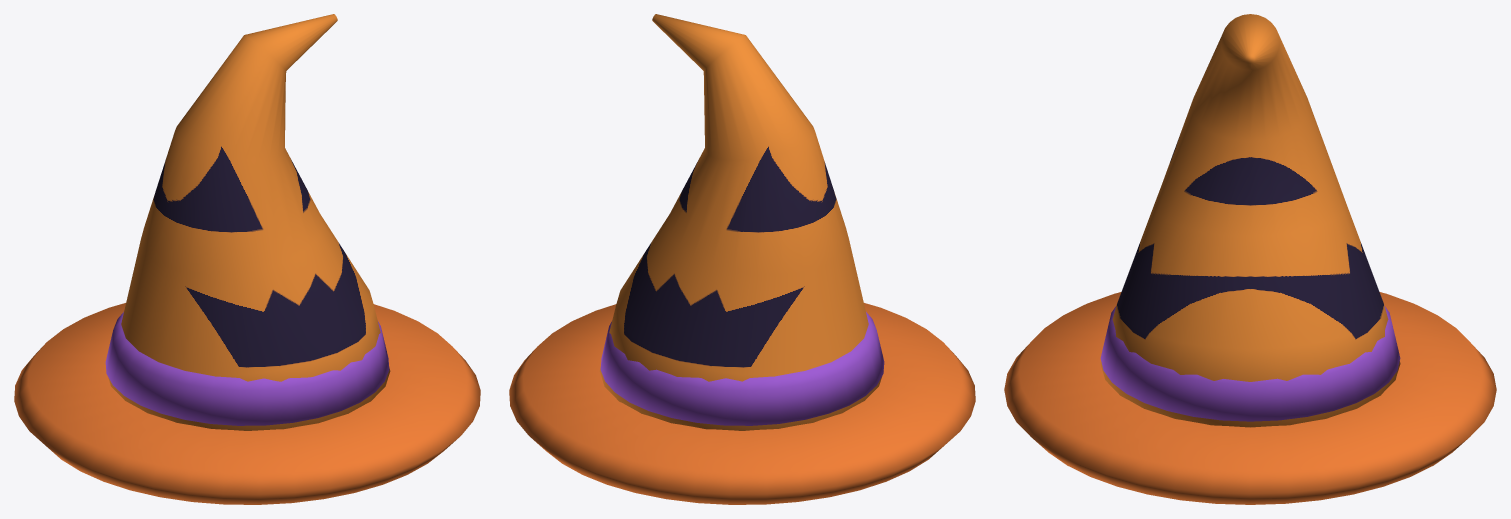
Rendered from ACC_TH_WIZARD_Primary.fbx.
3 renders of one model, left to right at view 1: azimuth 30°, elevation 25°; view 2: azimuth 150°, elevation 25°; view 3: azimuth 270°, elevation 25°, orthographic. The views are drawn at different scales.
Parts seen in each view (by area): view 1: ACC_TH_WIZARD_Primary; view 2: ACC_TH_WIZARD_Primary; view 3: ACC_TH_WIZARD_Primary.
Part boxes in pixels (x1,y1,x2,y2): ACC_TH_WIZARD_Primary: (14, 14, 480, 504); ACC_TH_WIZARD_Primary: (509, 14, 975, 504); ACC_TH_WIZARD_Primary: (1004, 14, 1496, 504).
Size of the model in its own units: 92 by 84.78 by 92.
